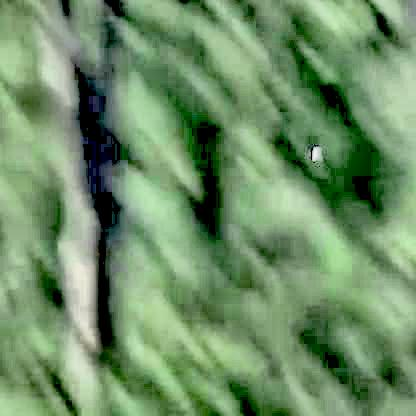golfball: (308, 142, 319, 158)
